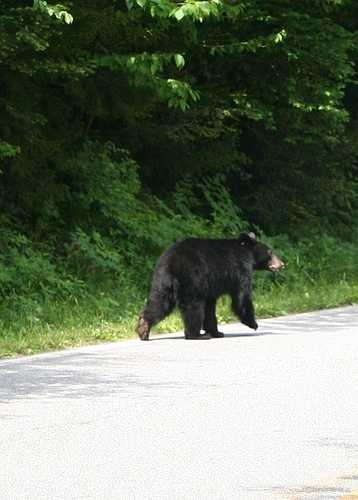bear: (155, 221, 283, 349)
